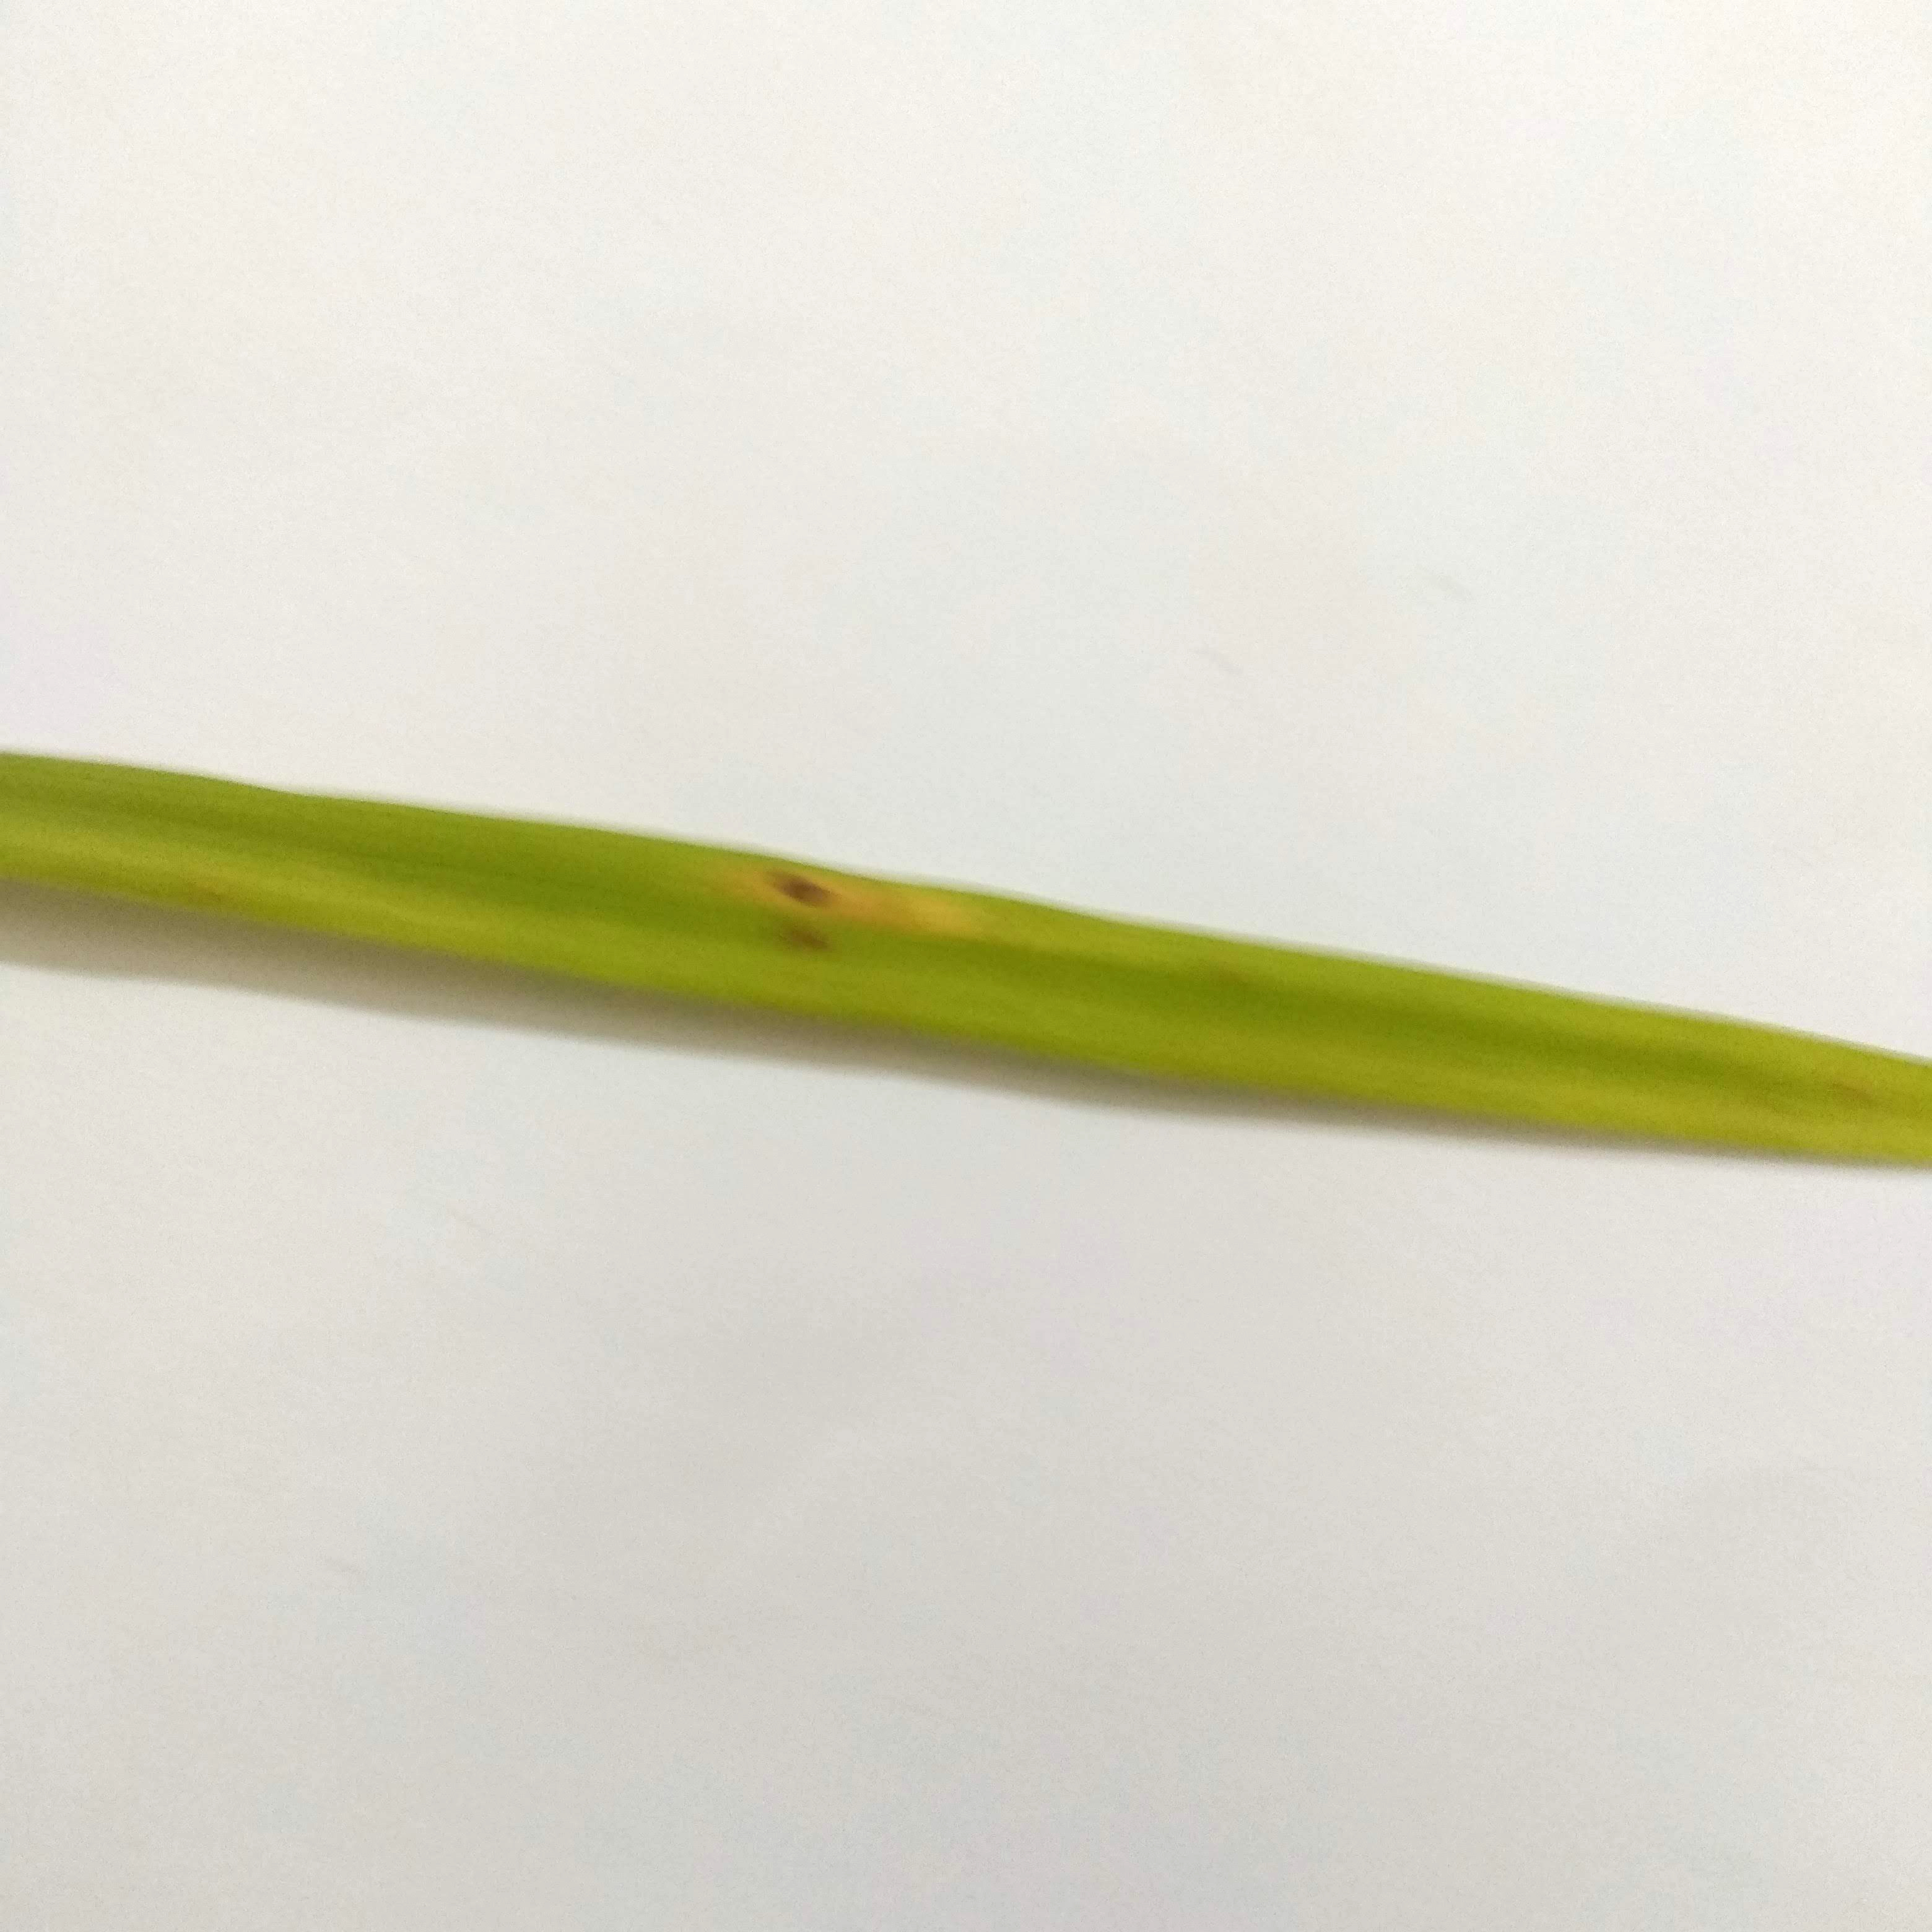brown spot: (725, 844, 865, 968)
